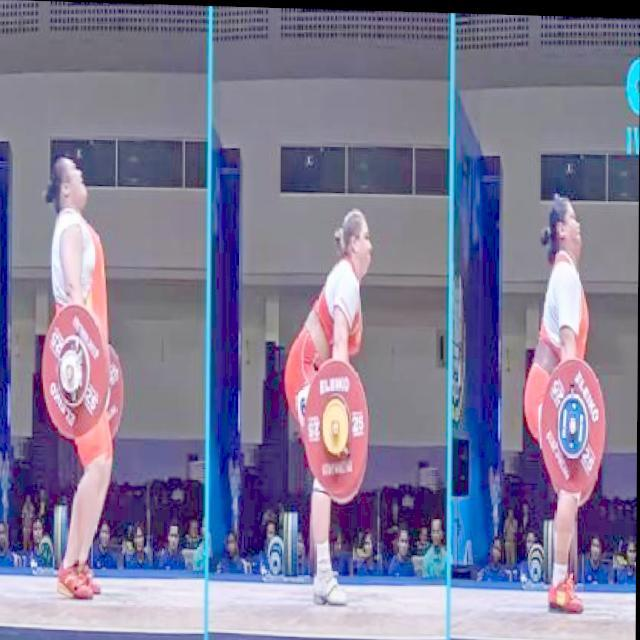barbell: (536, 350, 617, 497), (302, 352, 379, 501), (40, 298, 114, 444)
